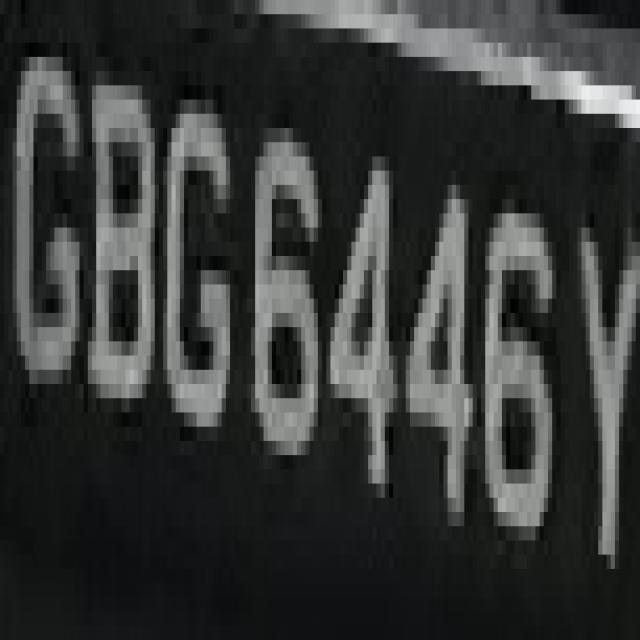4: (322, 71, 410, 512), (410, 100, 477, 540)
6: (239, 57, 322, 512), (469, 142, 552, 540)
B: (75, 14, 159, 470)
G: (155, 29, 234, 455), (12, 0, 80, 441)
Y: (560, 156, 640, 583)
